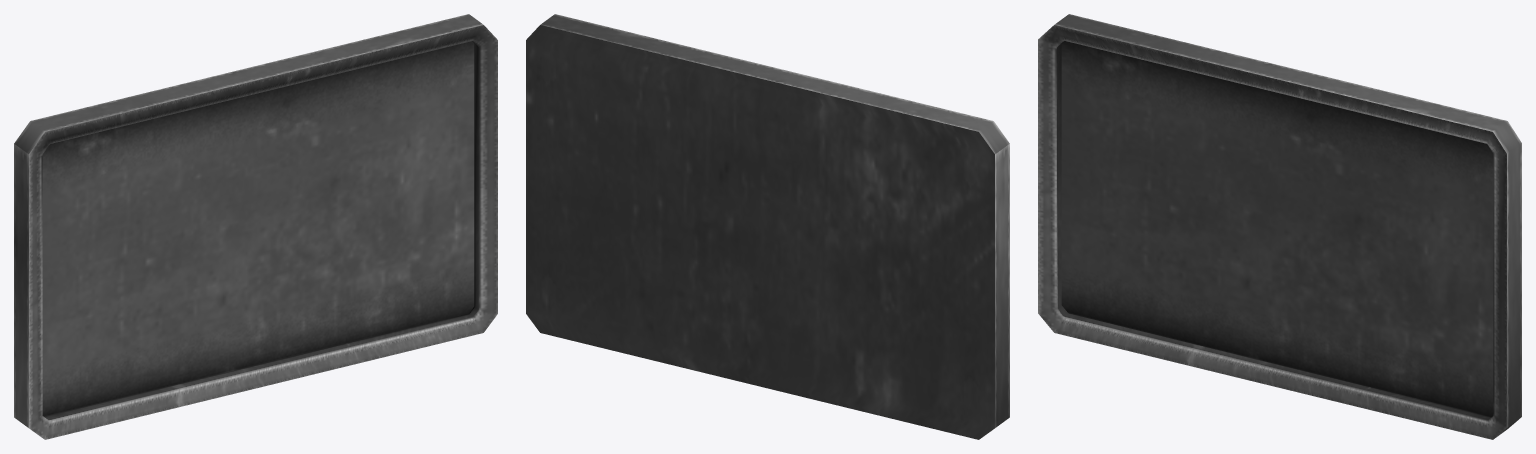
The model's file is UI_3d_button2.FBX.
3 renders of one model, left to right at view 1: azimuth 30°, elevation 25°; view 2: azimuth 150°, elevation 25°; view 3: azimuth 330°, elevation 25°, orthographic.
Parts seen in each view (by area): view 1: UI_3d_button2; view 2: UI_3d_button2; view 3: UI_3d_button2.
Boxes of the visible parts, bbox=[...] form: UI_3d_button2: bbox=[14, 14, 497, 439]; UI_3d_button2: bbox=[526, 14, 1009, 439]; UI_3d_button2: bbox=[1038, 14, 1521, 439].
Size of the model in its own units: 14.67 by 9.2 by 0.803.
Materials: 1 (1 with a texture image).
